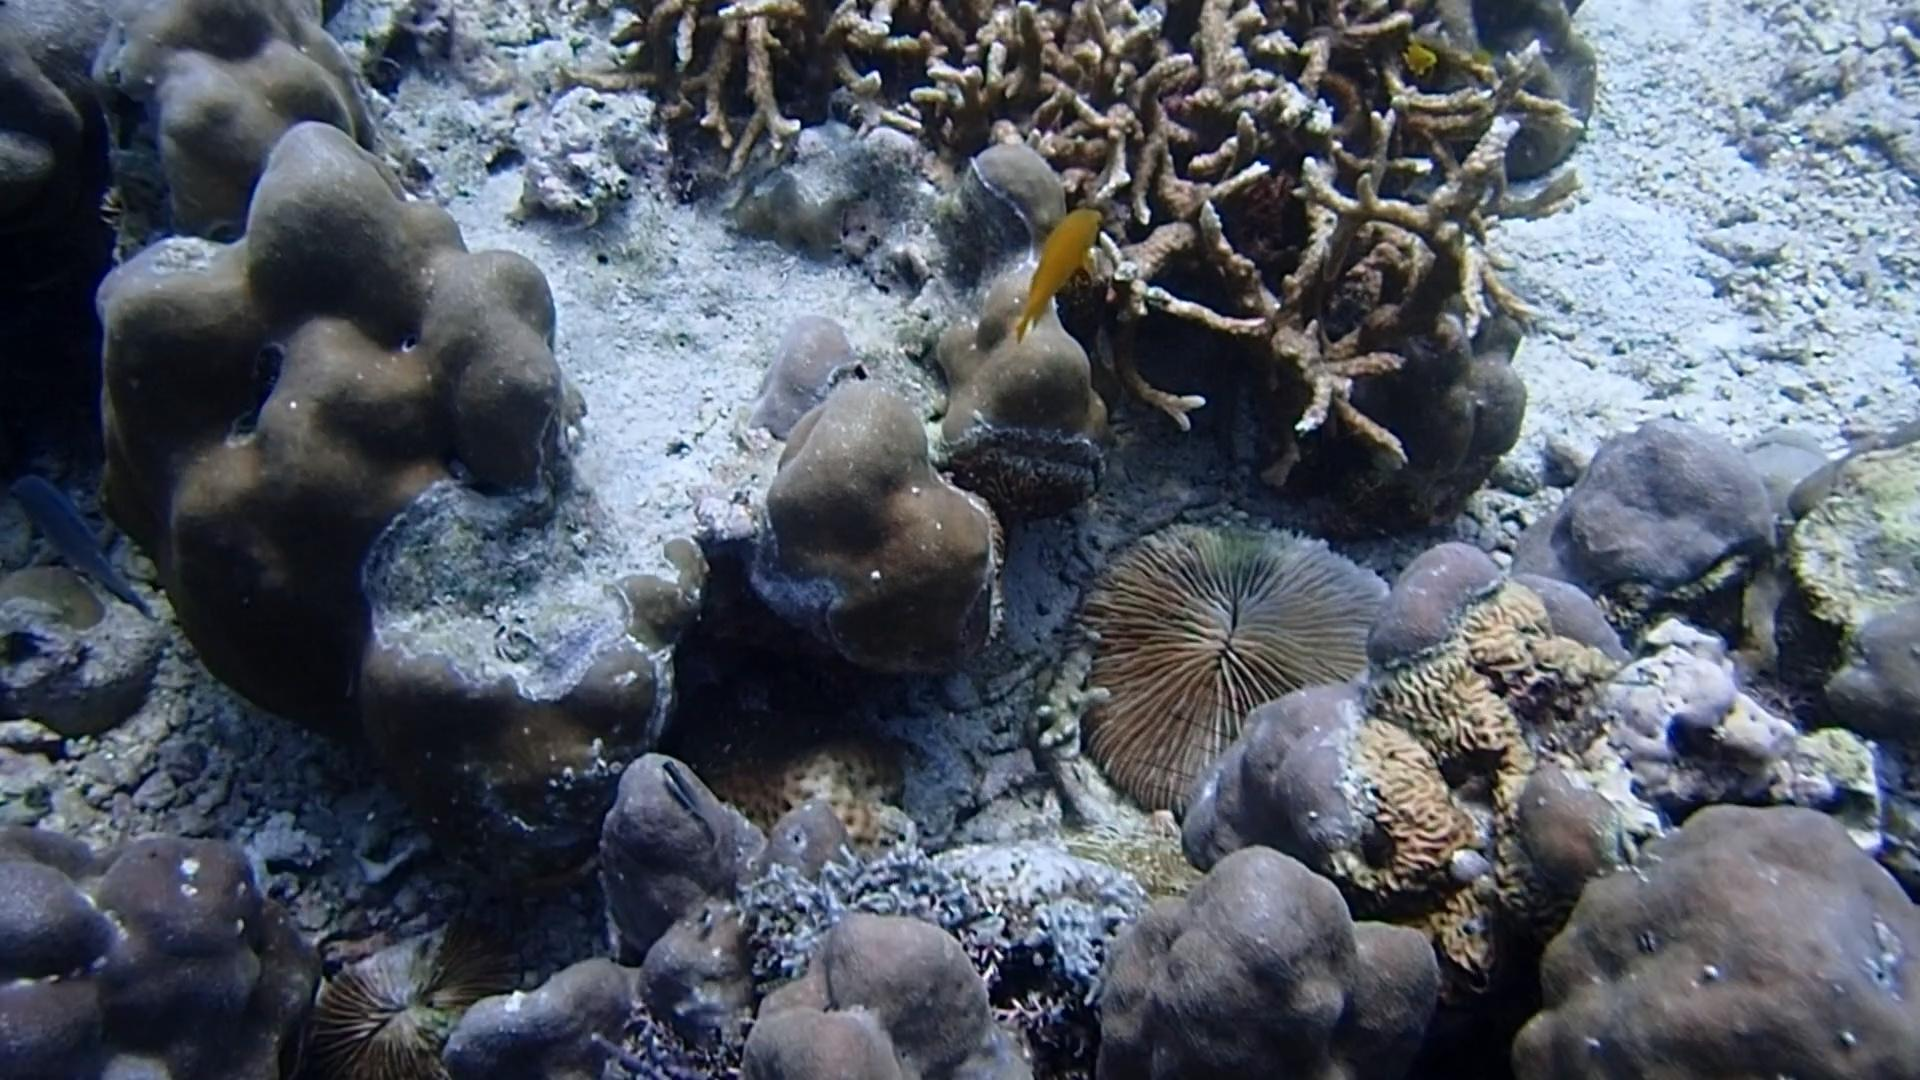Blue Fish Two: (4, 463, 150, 622)
Yellow Fish: (1004, 199, 1112, 335), (1395, 34, 1441, 79)
